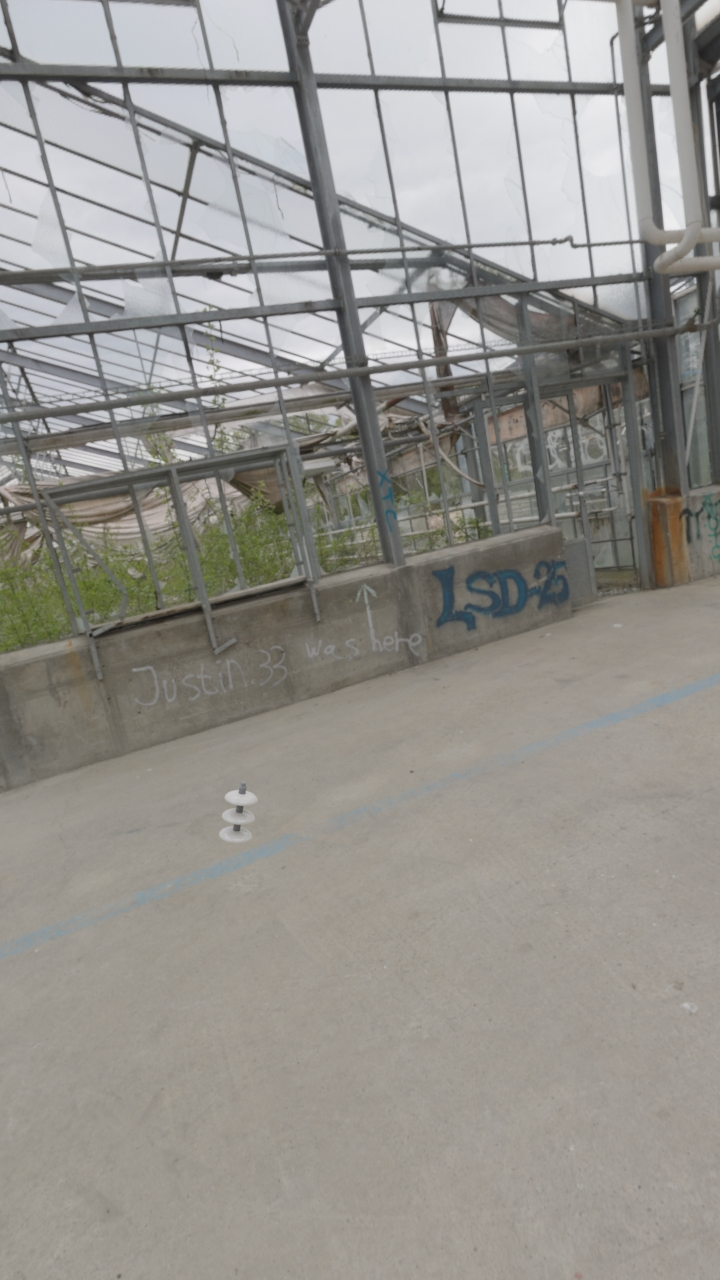ceramicinsulators: (219, 781, 257, 844)
